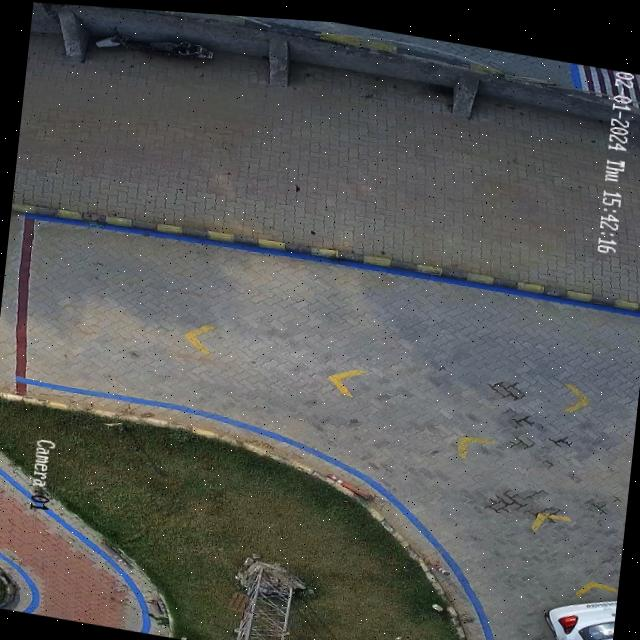car: (544, 589, 617, 640)
